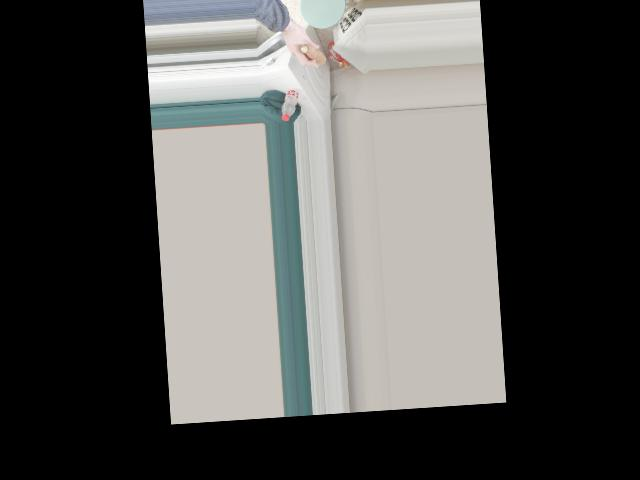sweet_potato: (297, 39, 325, 69)
